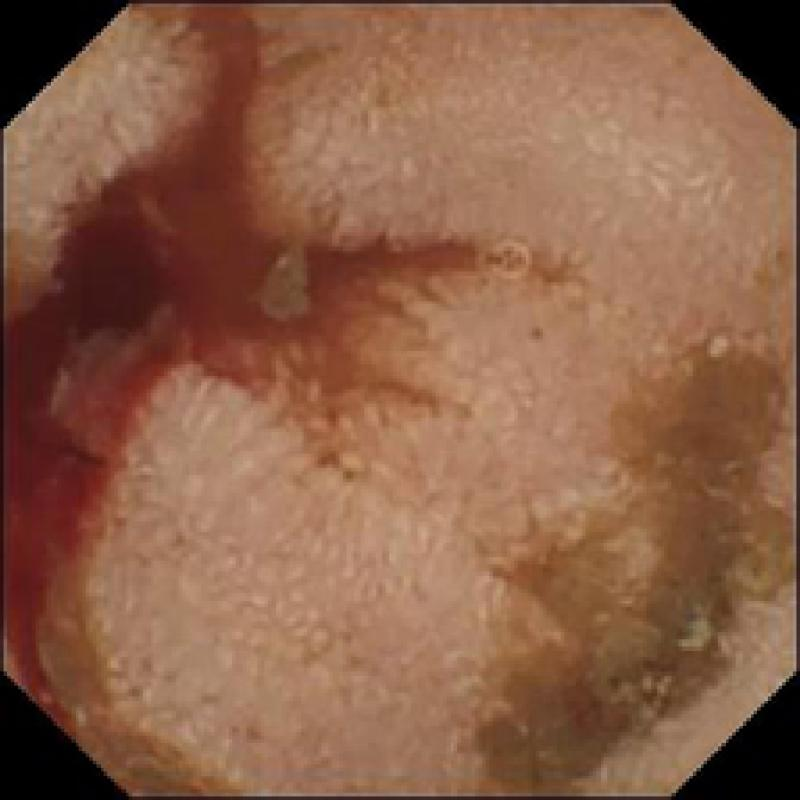bleeding: (0, 175, 225, 707)
